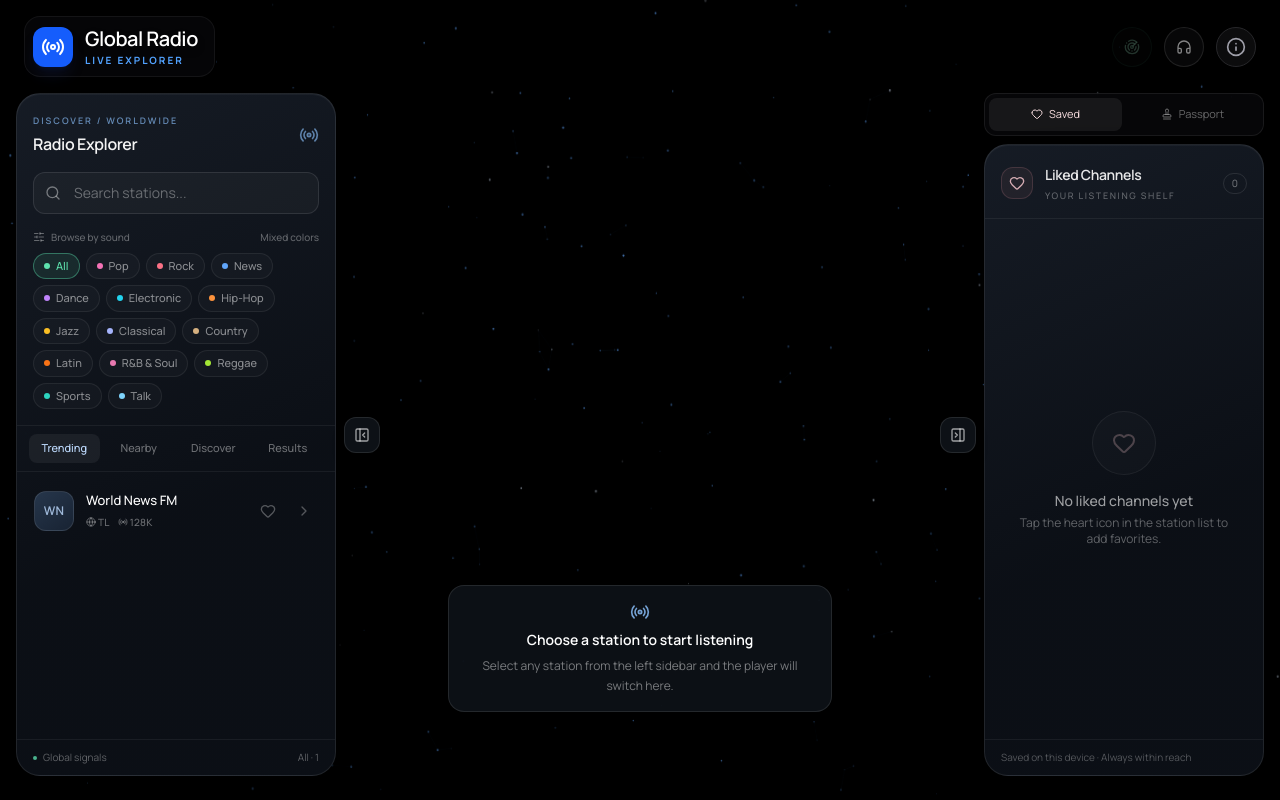
Test: App › keeps results empty when the results tab is selected with an empty search box
Expected: the heading "World News FM" is shown, [86,491,177,509]
Click the button "Results" at (288, 448), box [252,434,323,462]
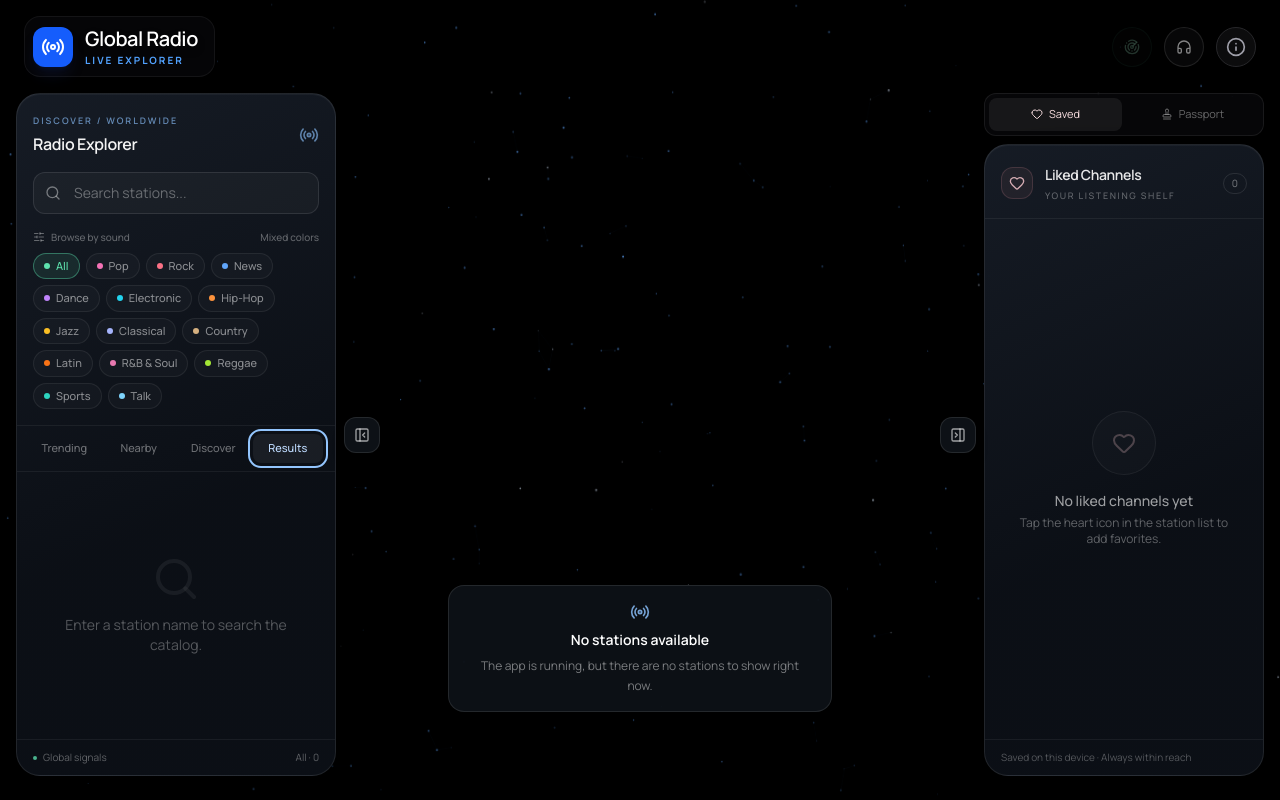
Expected: the text "Enter a station name to search the catalog." is shown, [57,615,295,655]
Expected: the button "World News FM" is gone
